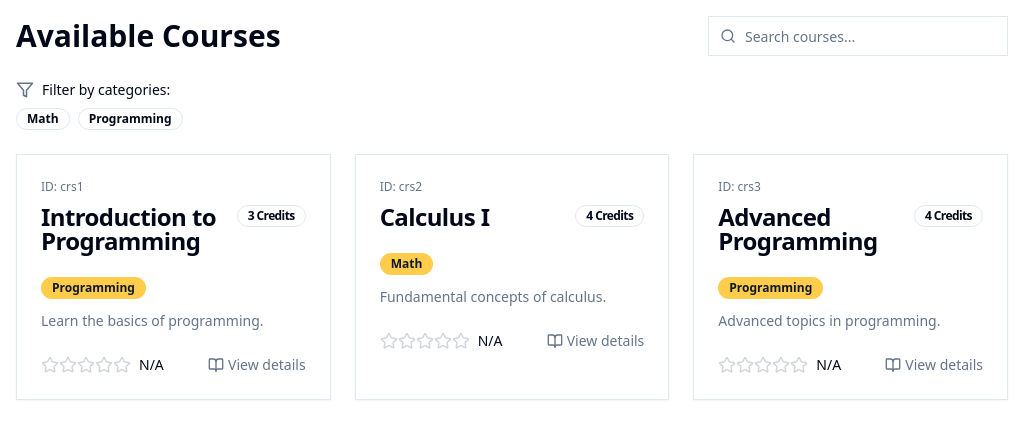
Test: CourseList Page › when courses are fetched successfully › filters courses by category selection
Expected: the text "Introduction to Programming" is shown, [41, 205, 229, 253]
Click the text "Programming" below "Filter by categories:": (130, 119) [78, 108, 183, 130]
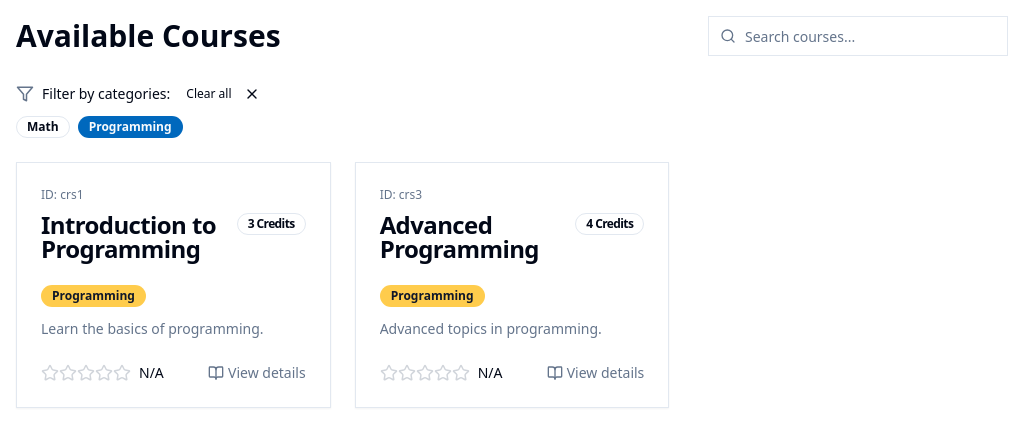
Expected: the text "Introduction to Programming" is shown, [41, 213, 229, 261]
Expected: the link "Calculus I" is gone
